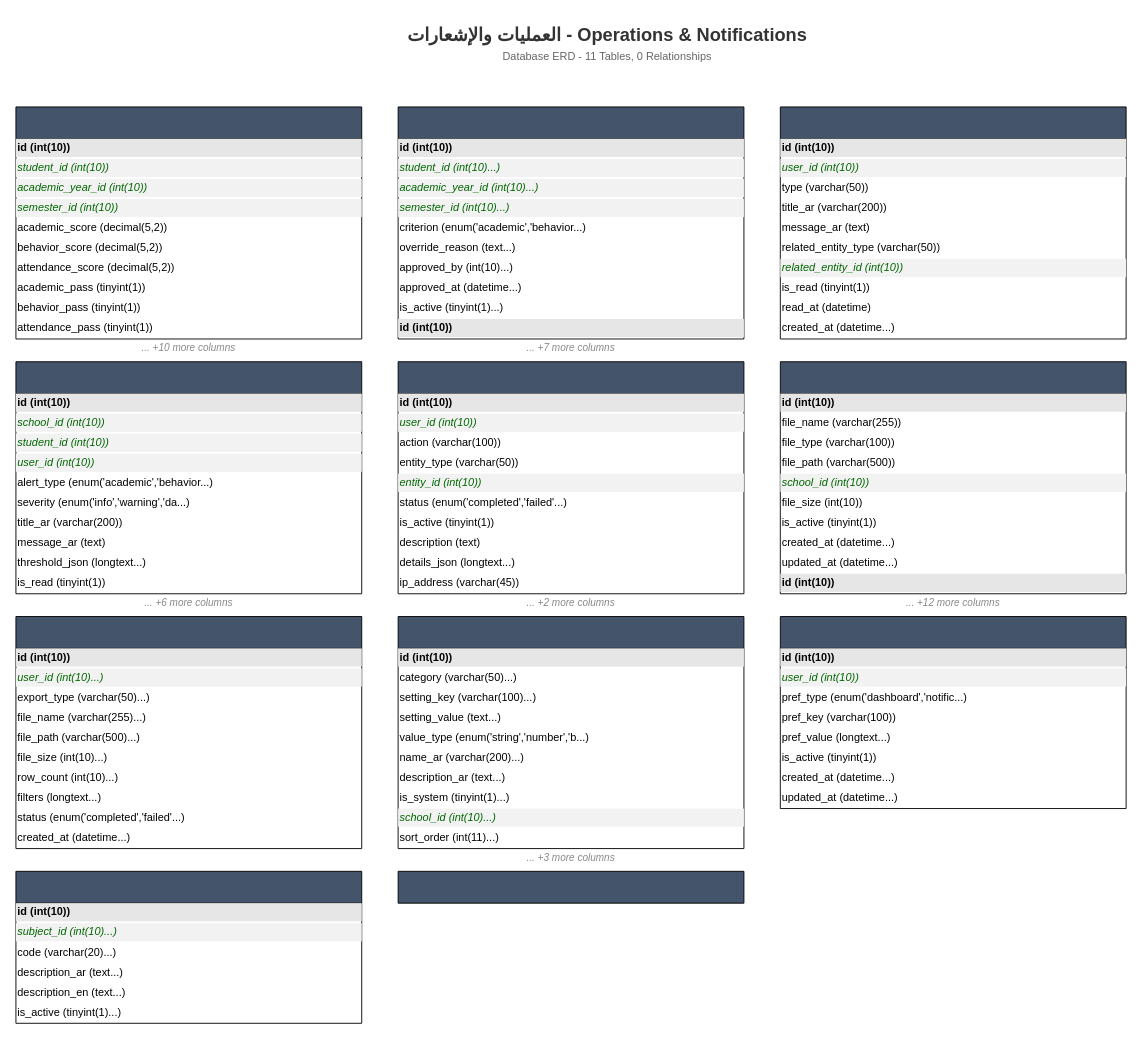
This 1142x1039 diagram has some shape labels left out. Each missing label, with the box of its shape:
activity_logs: (397, 361, 744, 594)
alerts: (15, 361, 362, 594)
attachments: (779, 361, 1126, 594)
attendance_daily: (397, 870, 744, 903)
export_history: (15, 616, 362, 849)
learning_outcomes: (15, 870, 362, 1023)
notifications: (779, 106, 1126, 339)
promotion_overrides: (397, 106, 744, 339)
promotions: (15, 106, 362, 339)
system_settings: (397, 616, 744, 849)
user_preferences: (779, 616, 1126, 809)
